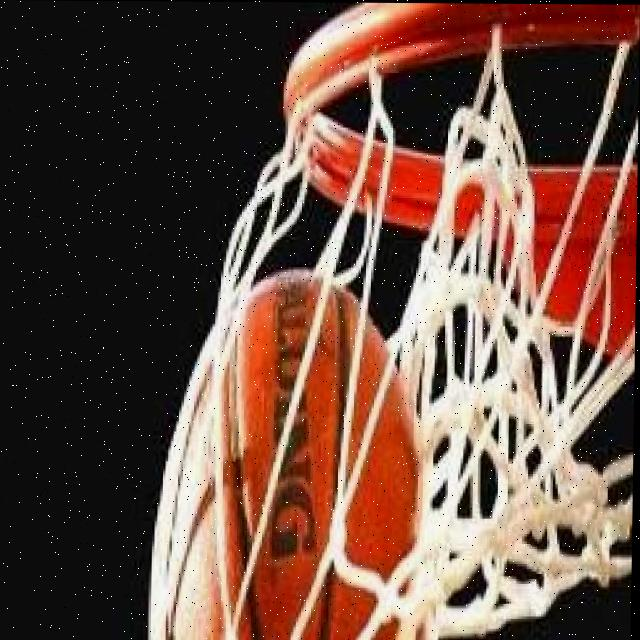Goal: (153, 267, 430, 640)
